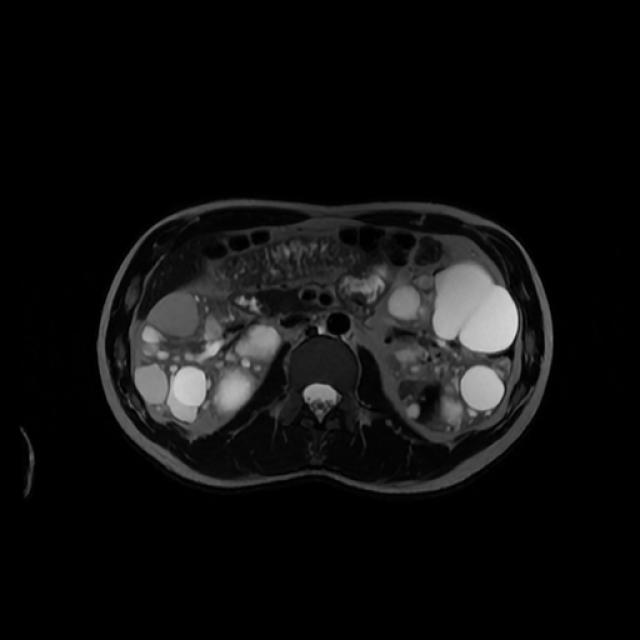sag: (133, 291, 286, 426)
sol: (387, 258, 521, 433)
